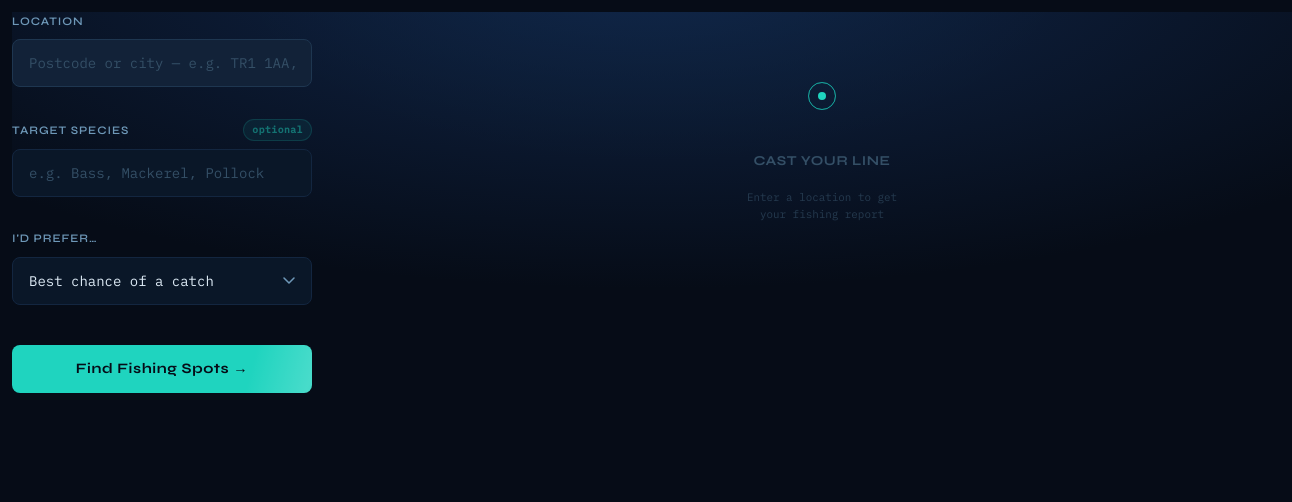
FishingForm › error state › shows a friendly message on a 422 validation error
Type "TR1 1AA" into the field labelled "Location" at (162, 63), box [12,39,312,87]
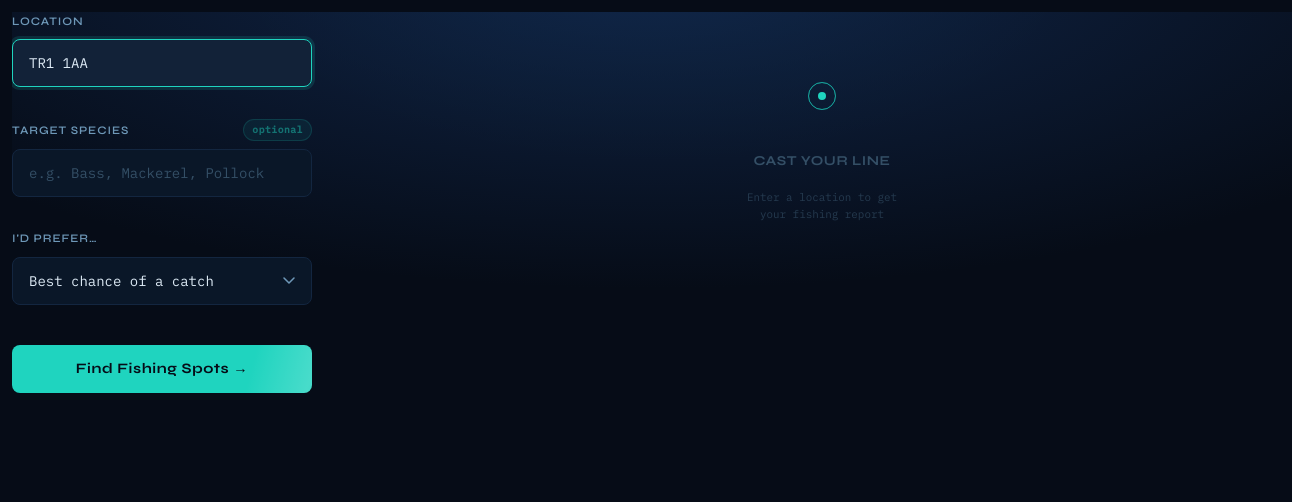
Click the button "Find Fishing Spots →" at (162, 369), box [12,345,312,393]
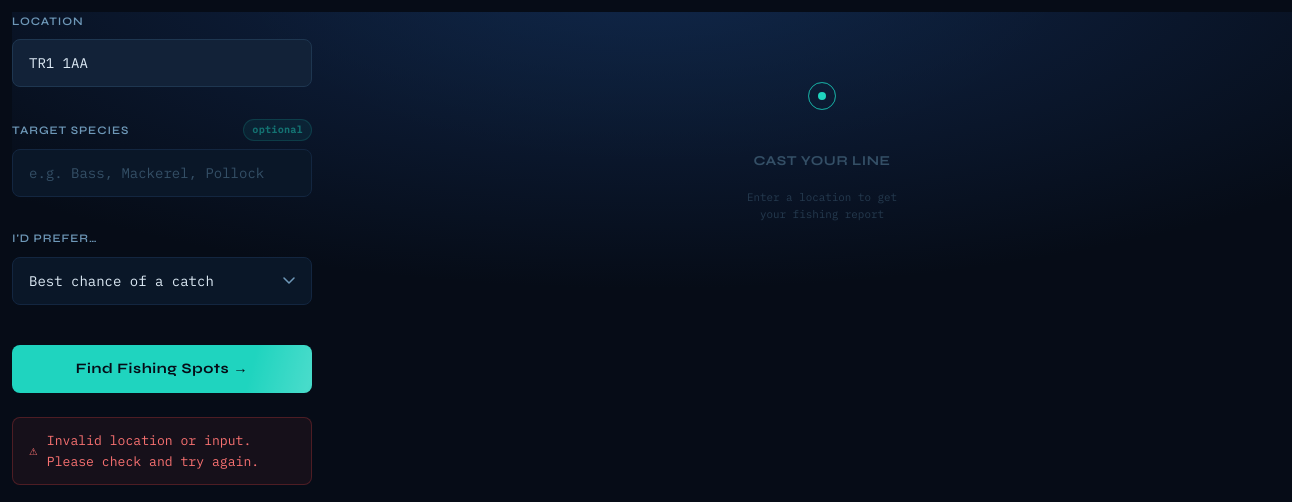
Result: the message shows "Invalid location" at [47,432,259,470]
